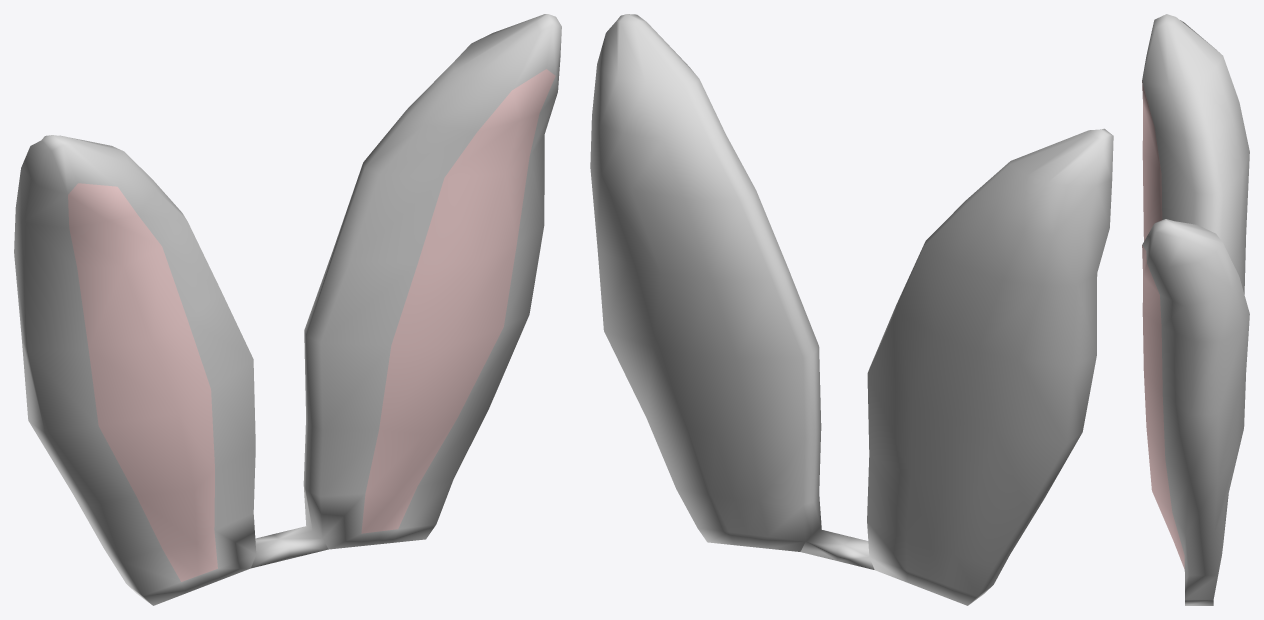
The model's file is bunnyEars.glb.
3 views of the same model, side by side, from view 1: azimuth 30°, elevation 25°; view 2: azimuth 150°, elevation 25°; view 3: azimuth 270°, elevation 25° (orthographic). The views are drawn at different scales.
Parts seen in each view (by area): view 1: Object_5, Object_4; view 2: Object_5; view 3: Object_5, Object_4.
Boxes of the visible parts, bbox=[...] form: Object_5: bbox=[14, 14, 561, 605]; Object_4: bbox=[68, 69, 555, 581]; Object_5: bbox=[590, 14, 1113, 605]; Object_5: bbox=[1142, 14, 1249, 605]; Object_4: bbox=[1142, 81, 1184, 568].
Bounding box in the file's own units: 184 × 166 × 37.62.
